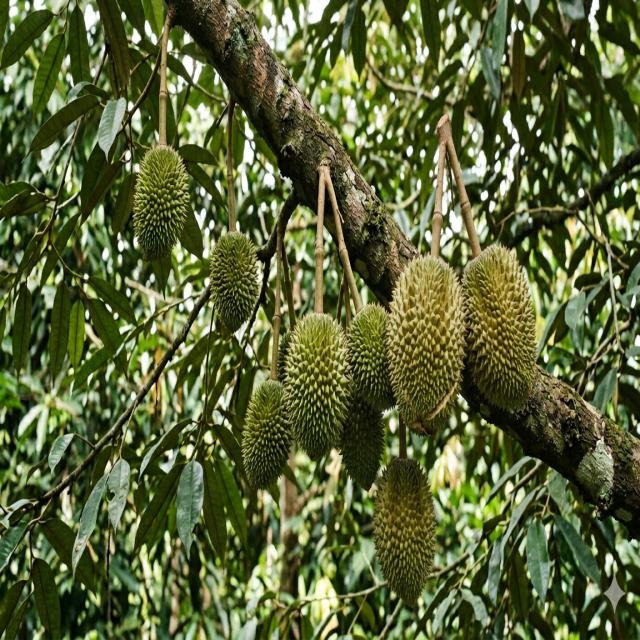immature: (385, 252, 467, 429), (460, 242, 540, 409), (281, 309, 349, 460), (371, 454, 438, 604), (132, 141, 192, 260), (239, 378, 294, 491), (207, 228, 261, 329), (344, 303, 391, 410), (339, 389, 387, 488), (276, 328, 295, 380)
